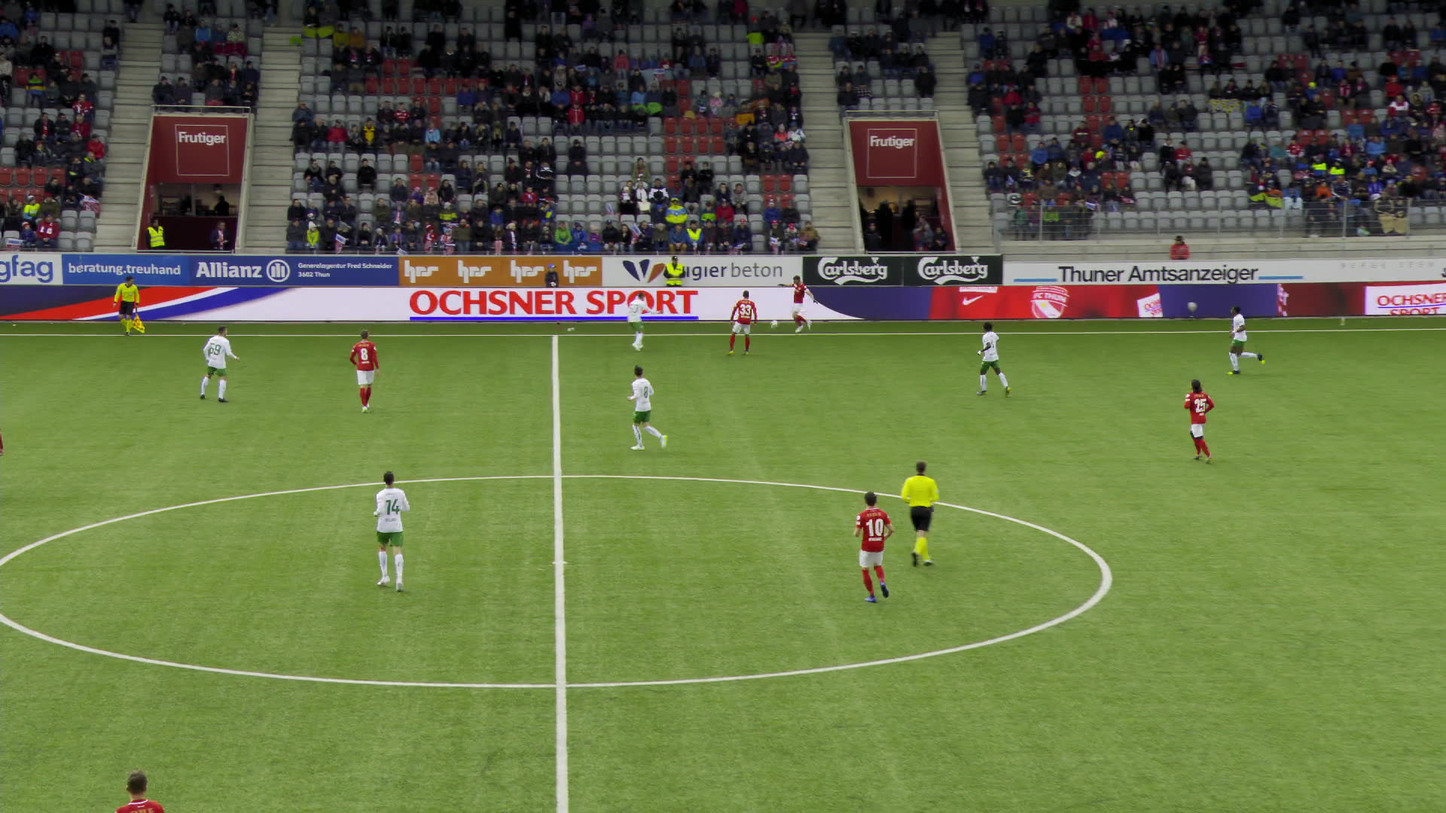ball: (767, 318, 778, 329)
player: (848, 486, 894, 600), (368, 473, 410, 593), (623, 364, 664, 452), (198, 322, 237, 402), (1219, 303, 1260, 375), (1179, 378, 1213, 461), (972, 322, 1008, 397), (347, 327, 377, 412), (110, 766, 161, 812), (723, 288, 755, 355), (777, 273, 813, 332), (622, 291, 657, 351)
referee: (896, 459, 936, 569), (110, 273, 142, 333)
